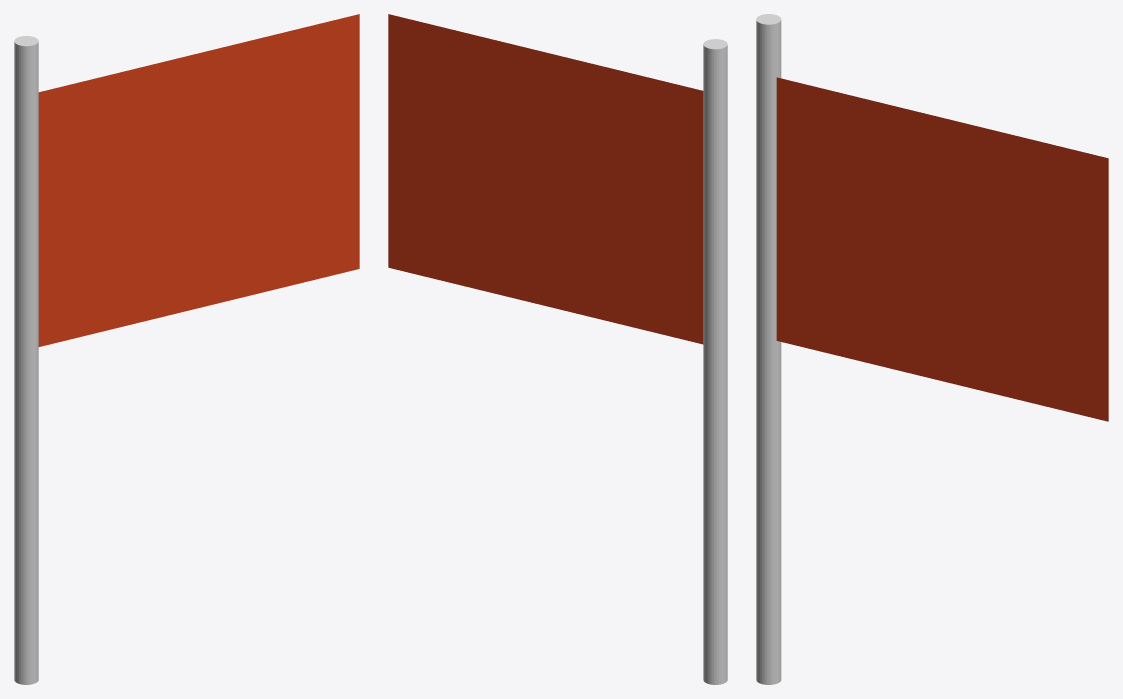
Rendered from hata.fbx.
3 renders of one model, left to right at view 1: azimuth 30°, elevation 25°; view 2: azimuth 150°, elevation 25°; view 3: azimuth 330°, elevation 25°, orthographic. The views are drawn at different scales.
Visible parts, largest first — view 1: 平面, 円柱; view 2: 平面, 円柱; view 3: 平面, 円柱.
Part boxes in pixels (box(x1,y1,x2,y2)): 平面: box(38, 14, 359, 346); 円柱: box(14, 36, 38, 684); 平面: box(388, 14, 703, 344); 円柱: box(703, 39, 727, 684); 平面: box(776, 77, 1108, 421); 円柱: box(756, 14, 781, 684).
Bounding box in the file's own units: 775 × 1384 × 48.
